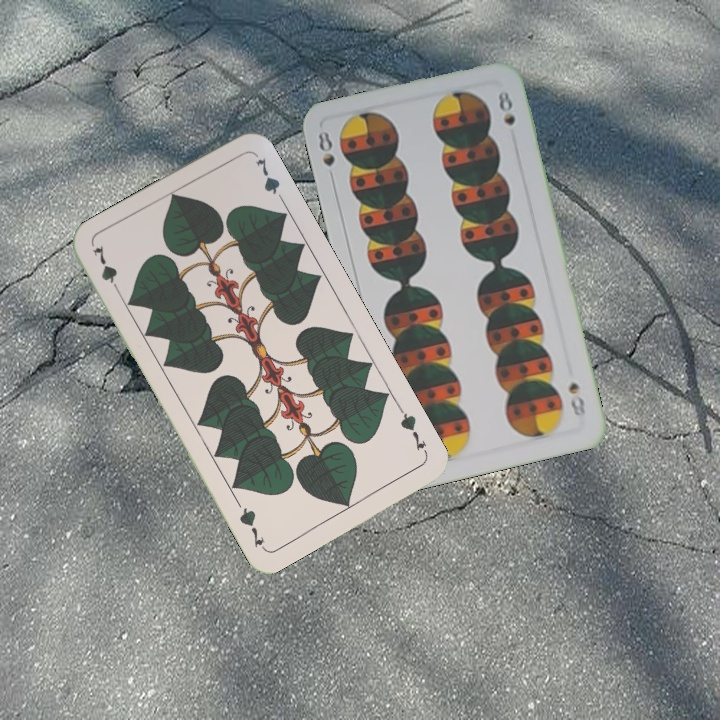G7: (88, 241, 124, 298), (395, 403, 431, 458)
S8: (311, 126, 338, 185), (564, 378, 588, 421)
